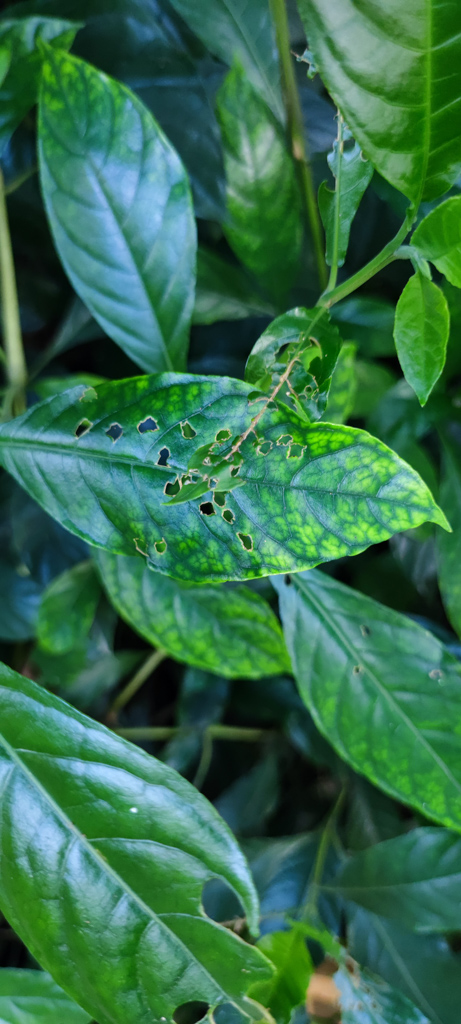frog-eye leafspot: (74, 407, 198, 448), (149, 465, 205, 508), (252, 427, 308, 468), (194, 486, 243, 527), (145, 444, 175, 478), (145, 533, 182, 557), (423, 663, 449, 686), (233, 528, 255, 554), (204, 426, 232, 446), (347, 656, 369, 679), (353, 620, 377, 639)
